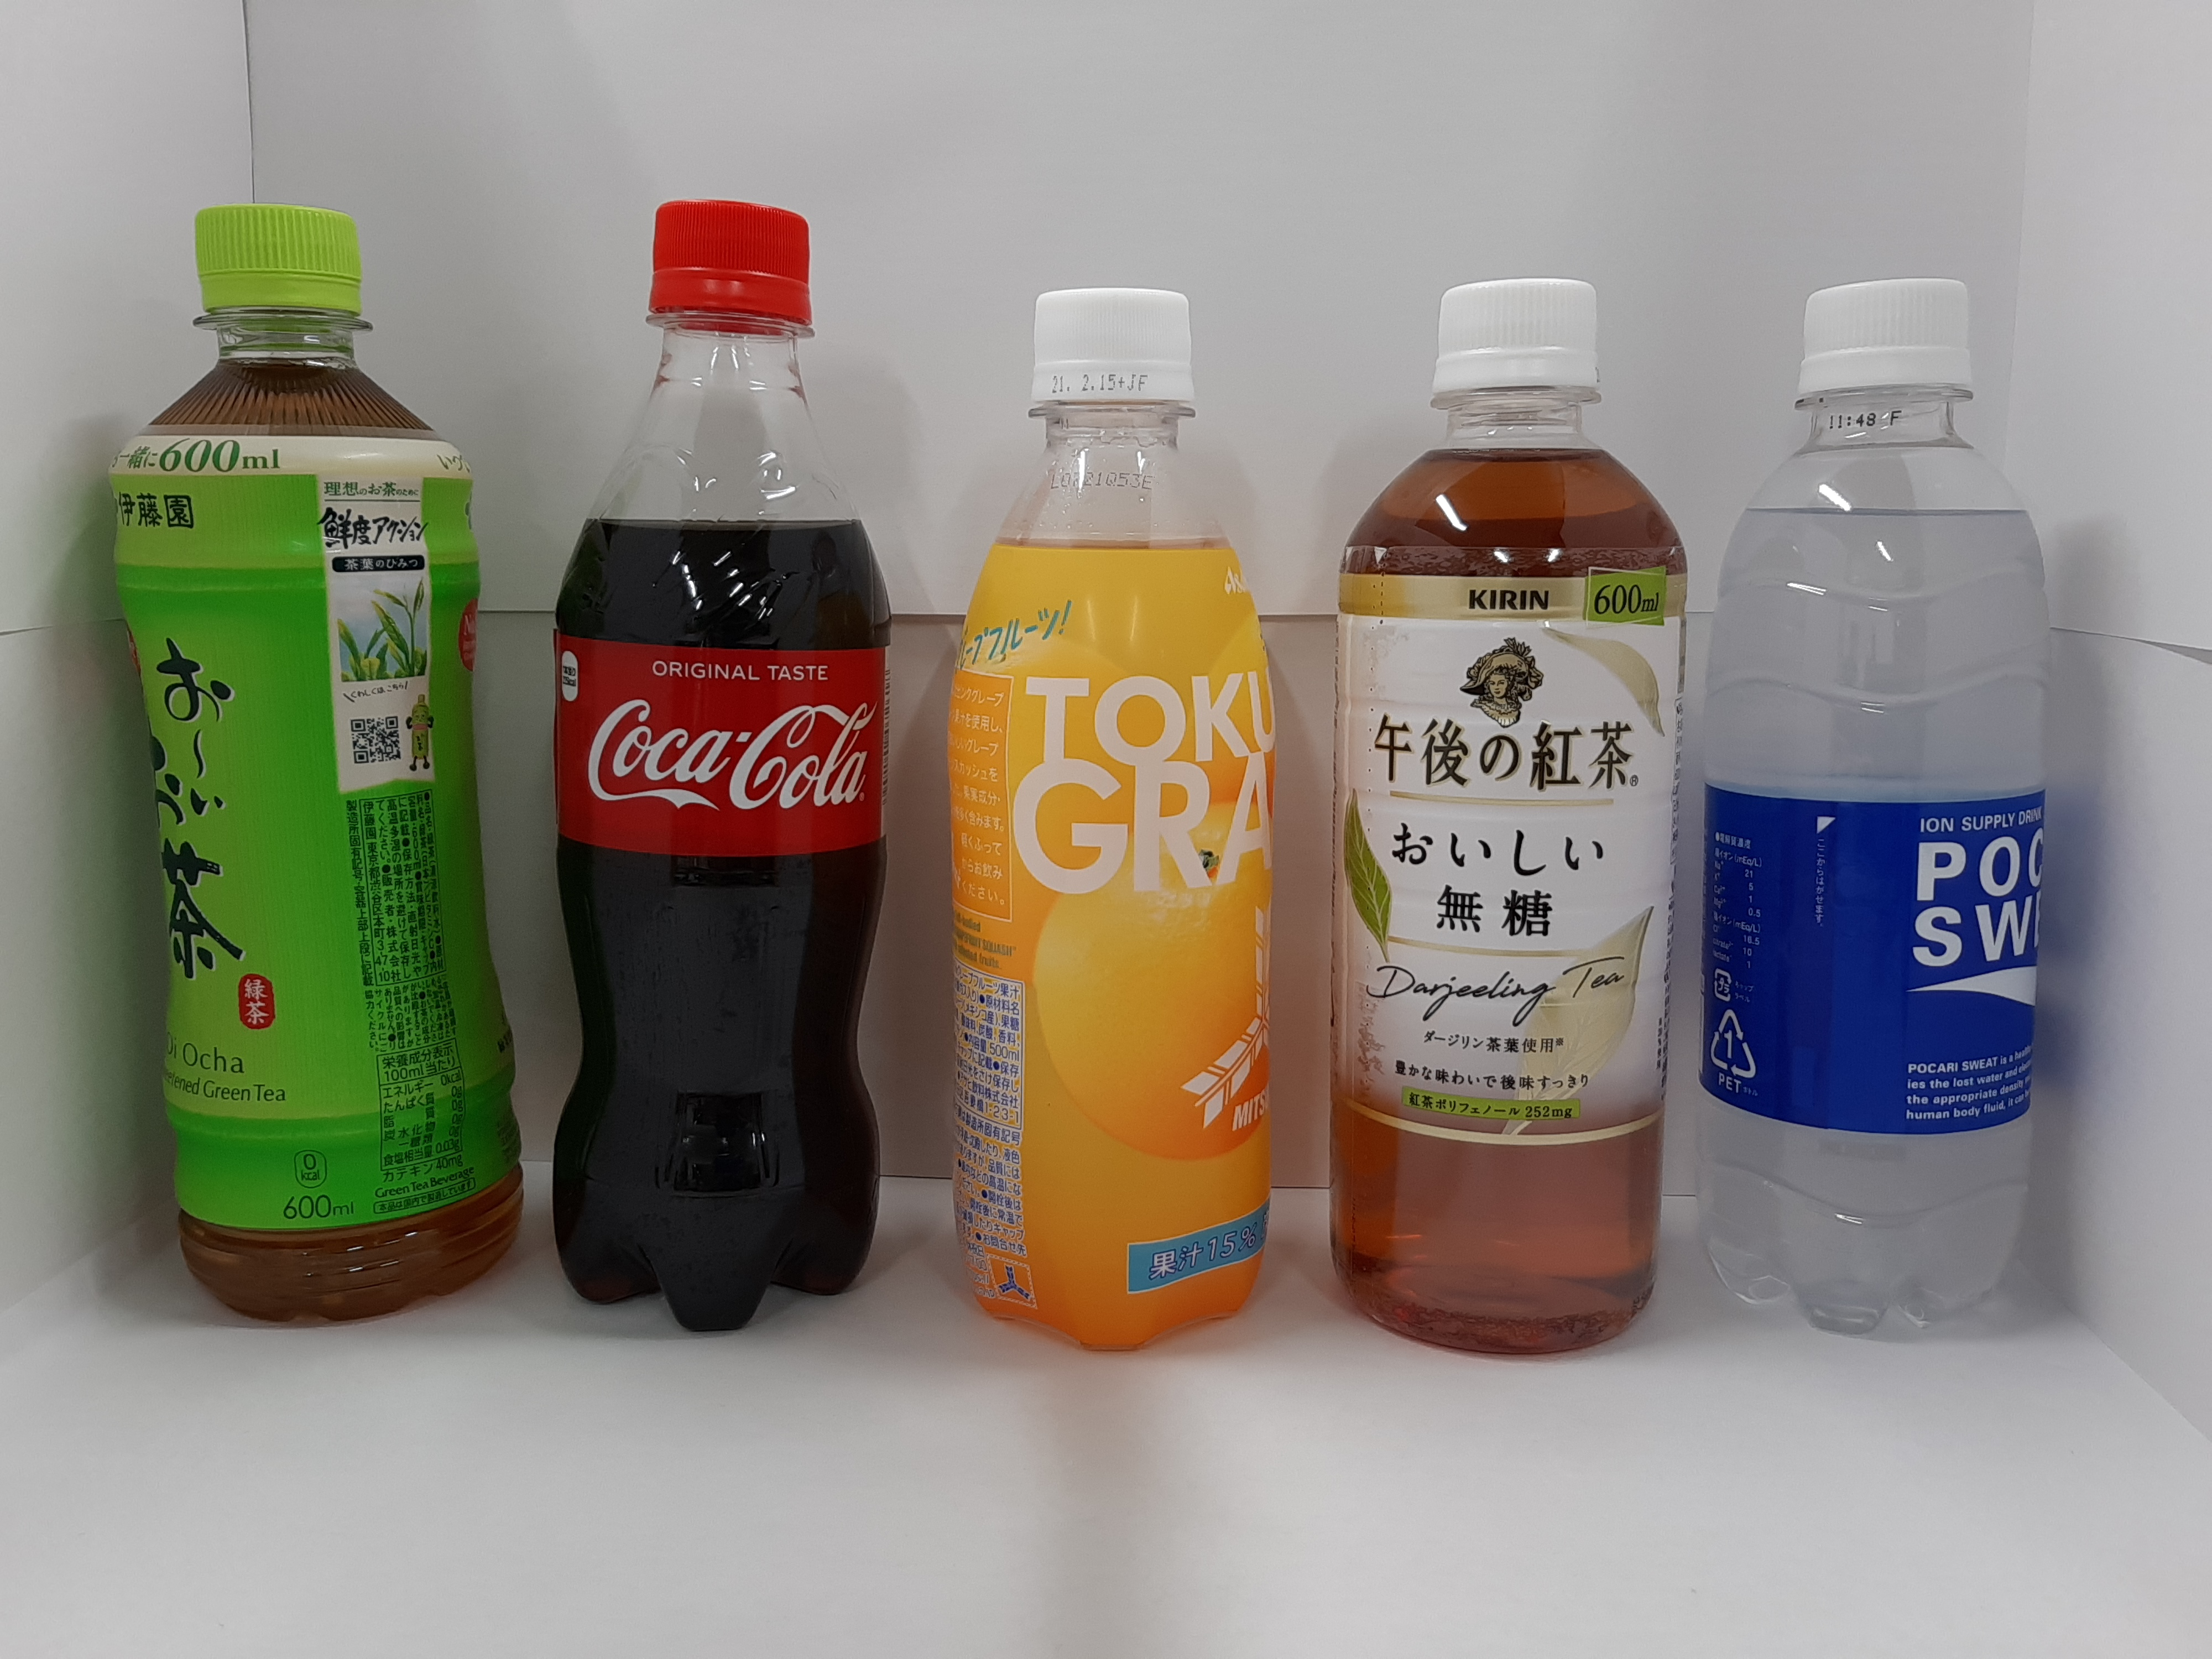おーいお茶: (78, 169, 542, 1352)
グレープフルーツスカッシュ: (928, 251, 1301, 1387)
コーラ: (540, 157, 906, 1361)
ポカリスエット: (1700, 249, 2062, 1368)
午後の紅茶: (1315, 261, 1695, 1380)
